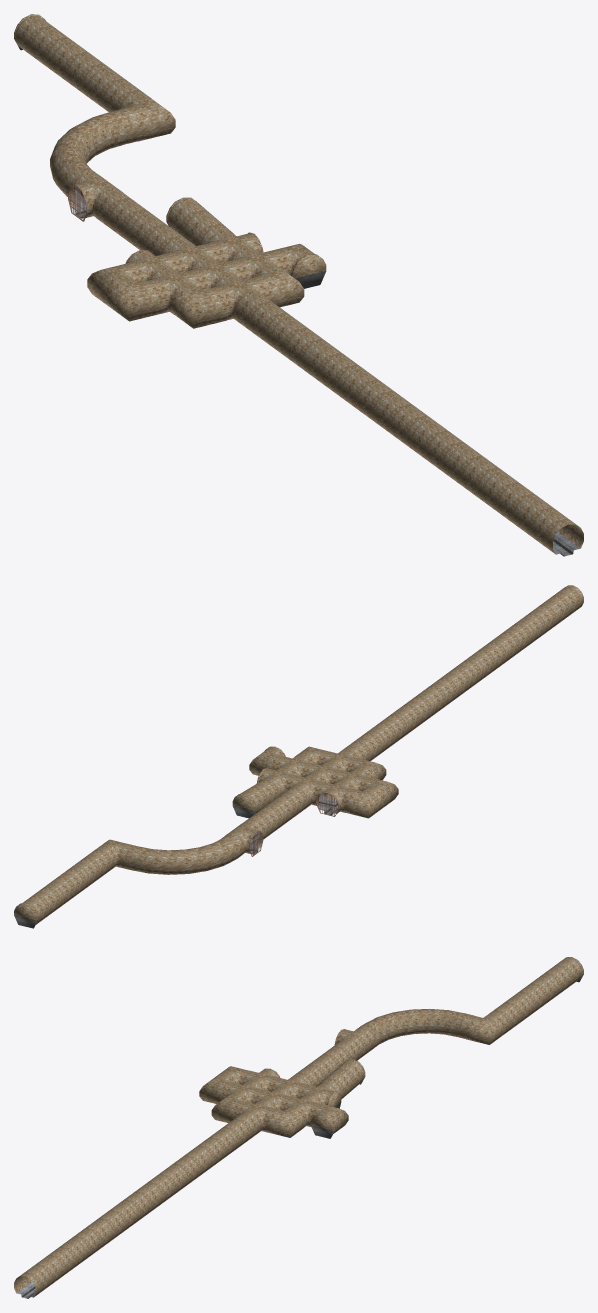
Rendered from Sewer.glb.
3 views of the same model, one above another, from view 1: azimuth 30°, elevation 25°; view 2: azimuth 150°, elevation 25°; view 3: azimuth 330°, elevation 25° (orthographic). The views are drawn at different scales.
Visible parts, largest first — view 1: Serwers_004.001-col; view 2: Serwers_004.001-col; view 3: Serwers_004.001-col.
Boxes of the visible parts, <box> form: Serwers_004.001-col: <box>14,14,583,556</box>; Serwers_004.001-col: <box>14,585,583,928</box>; Serwers_004.001-col: <box>14,957,583,1298</box>.
Size of the model in its own units: 49.34 by 7.76 by 242.
4 materials, 4 textured.
